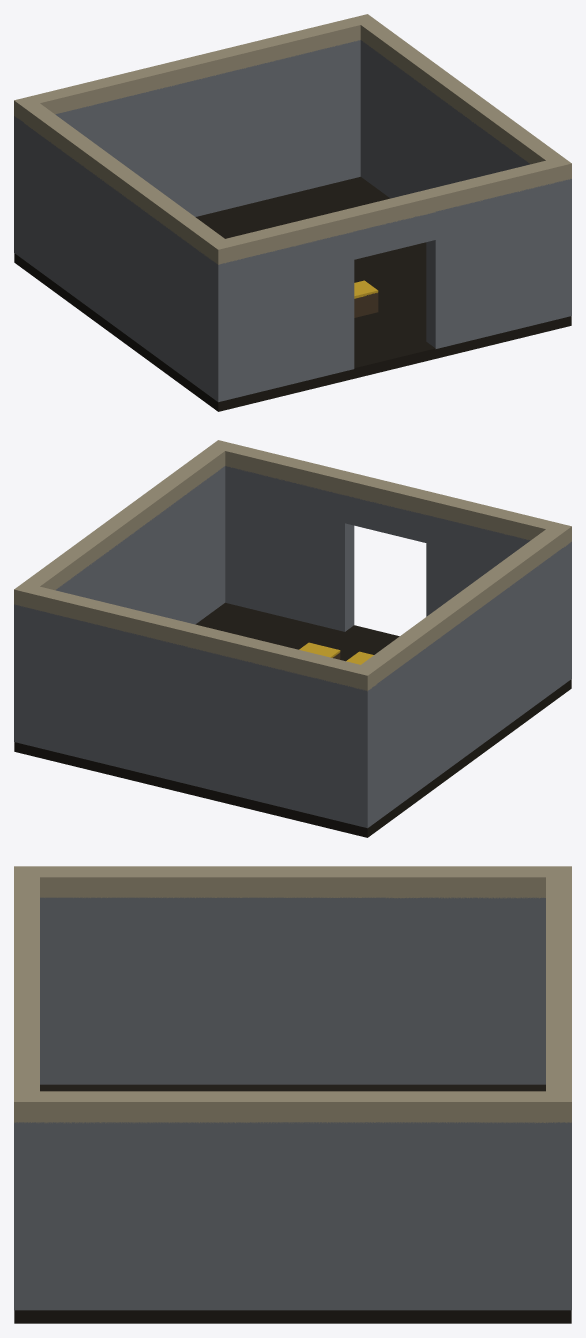
Rendered from TreasuryVault.fbx.
3 views of the same model, one above another, from view 1: azimuth 30°, elevation 25°; view 2: azimuth 150°, elevation 25°; view 3: azimuth 270°, elevation 25° (orthographic). The views are drawn at different scales.
Parts seen in each view (by area): view 1: TreasuryVault; view 2: TreasuryVault; view 3: TreasuryVault.
Part boxes in pixels (x1=…): TreasuryVault: x1=14, y1=14, x2=571, y2=411; TreasuryVault: x1=14, y1=440, x2=571, y2=837; TreasuryVault: x1=14, y1=866, x2=571, y2=1323.
Size of the model in its own units: 1122 by 492 by 1122.
5 materials, 5 textured.
